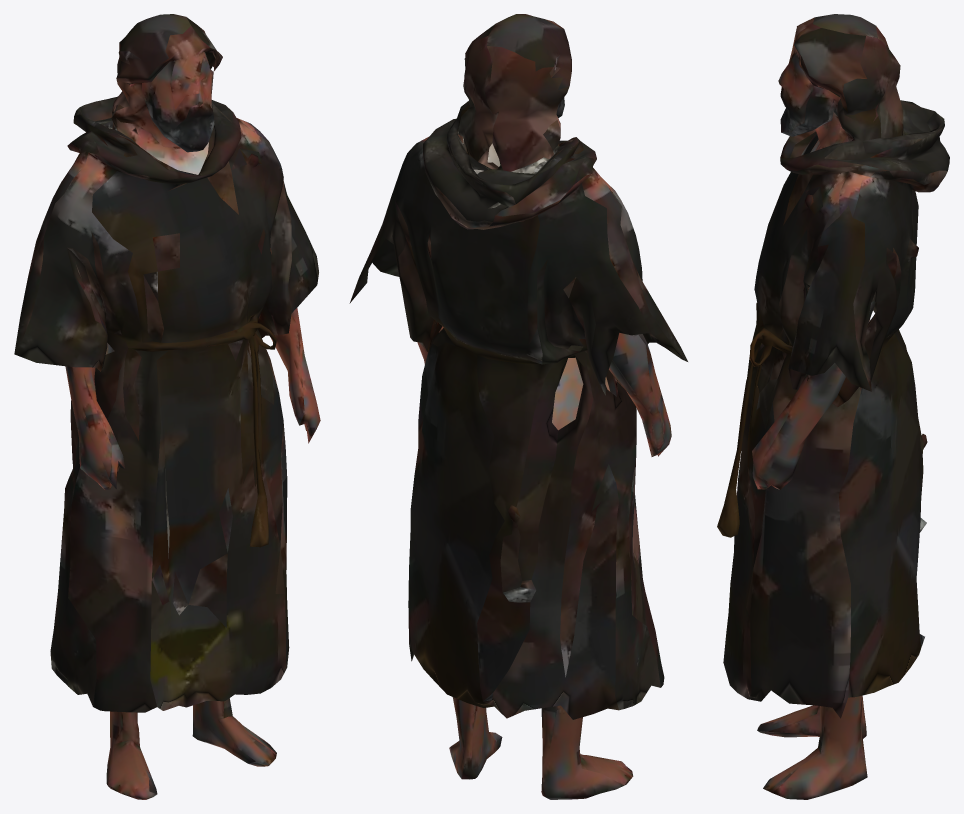
The model's file is witnessB.glb.
3 views of the same model, side by side, from view 1: azimuth 30°, elevation 25°; view 2: azimuth 150°, elevation 25°; view 3: azimuth 270°, elevation 25° (orthographic). The views are drawn at different scales.
Visible parts, largest first — view 1: geometry_0; view 2: geometry_0; view 3: geometry_0.
Boxes of the visible parts, x1,y1,x2,y2 form: geometry_0: [14, 14, 320, 799]; geometry_0: [349, 14, 687, 799]; geometry_0: [717, 14, 949, 799].
Size of the model in its own units: 0.4373 by 0.9969 by 0.2833.
Materials: 1 (1 with a texture image).
